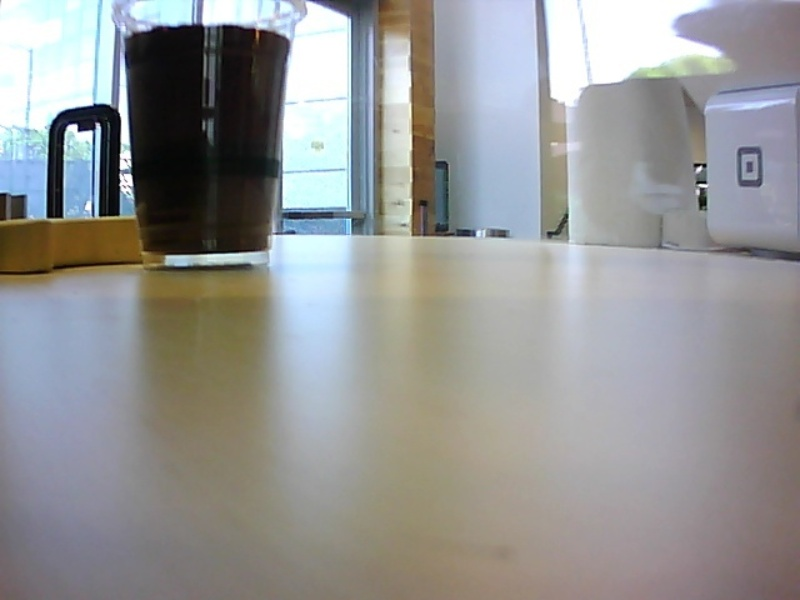cup: (107, 1, 310, 276)
limit: (113, 17, 299, 47)
